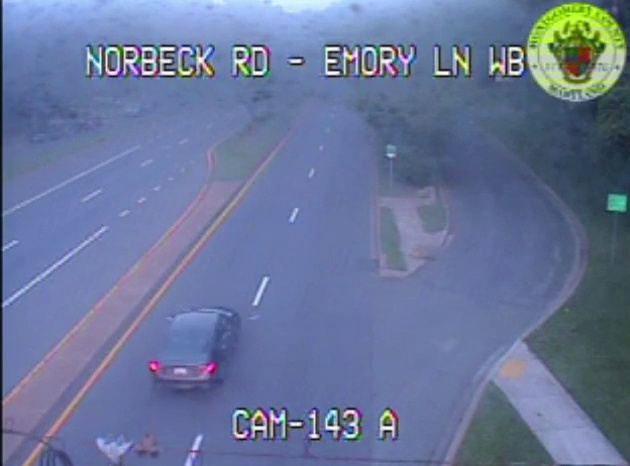car: (150, 307, 236, 387)
